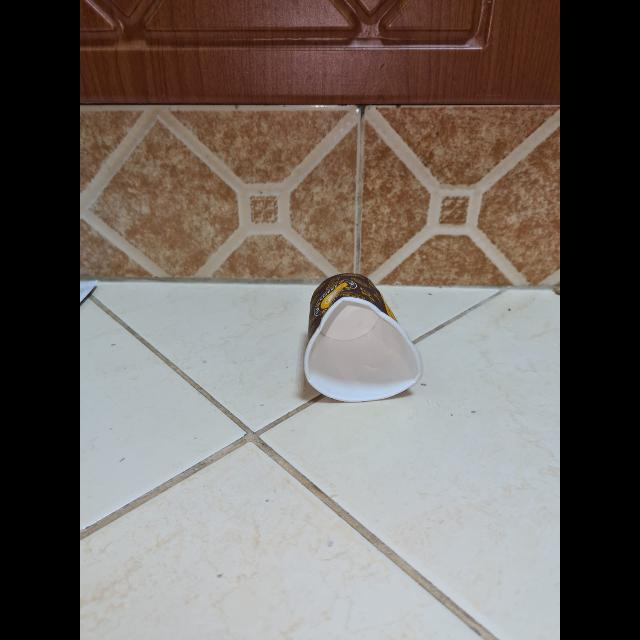trash: (299, 279, 425, 403)
